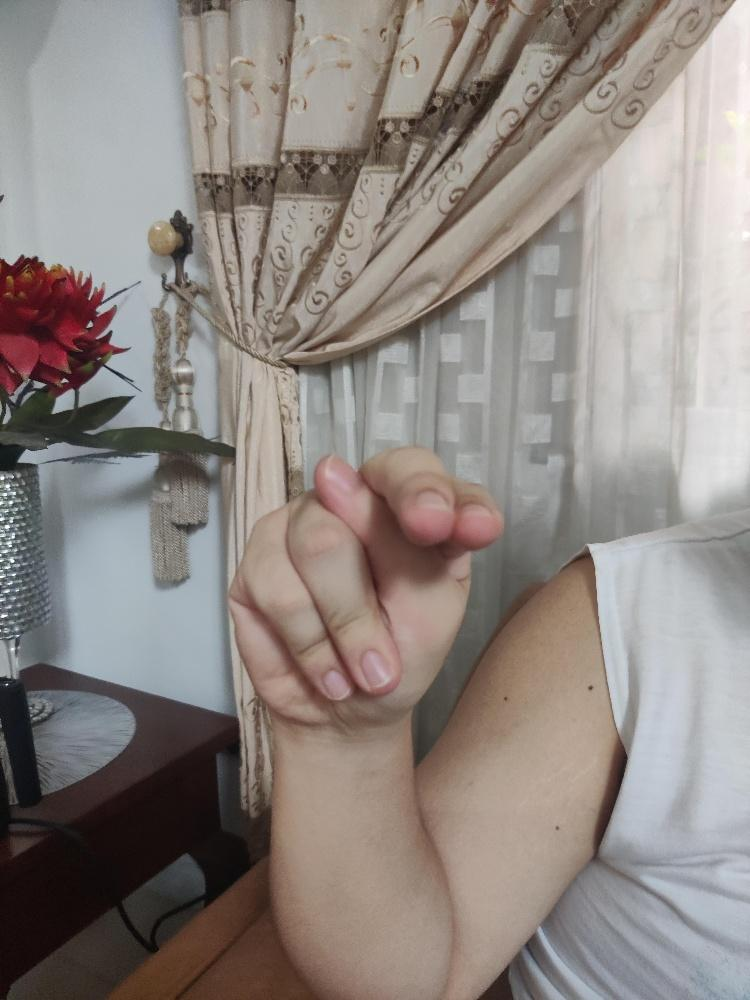n: (228, 443, 506, 730)
